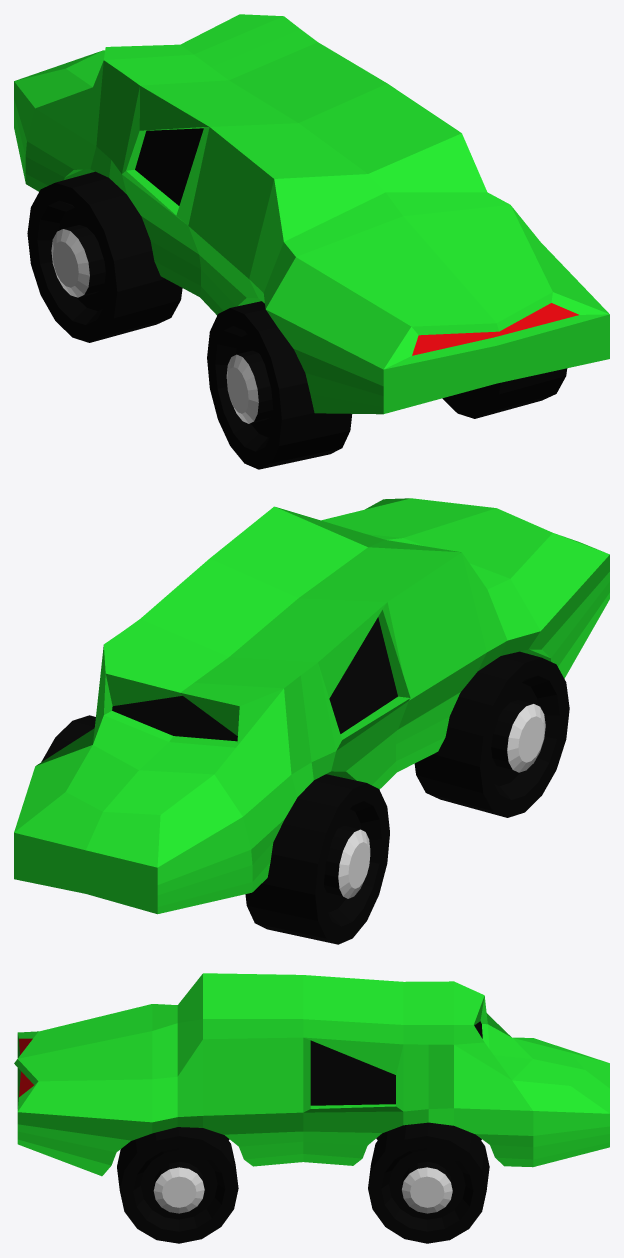
The model's file is Car2.glb.
3 renders of one model, top to bottom at view 1: azimuth 30°, elevation 25°; view 2: azimuth 150°, elevation 25°; view 3: azimuth 270°, elevation 25°, orthographic. The views are drawn at different scales.
Parts seen in each view (by area): view 1: Car, LB, LT, RT; view 2: Car, LT, LB, RB; view 3: Car, RB, RT.
Part boxes in pixels (x1,y1,x2,y2): Car: [14, 14, 609, 414]; LB: [27, 171, 182, 342]; LT: [207, 301, 352, 469]; RT: [442, 368, 567, 418]; Car: [14, 498, 609, 914]; LT: [414, 651, 569, 817]; LB: [245, 774, 389, 944]; RB: [41, 715, 95, 761]; Car: [14, 973, 609, 1176]; RB: [368, 1122, 489, 1243]; RT: [117, 1127, 238, 1243].
Size of the model in its own units: 1.96 by 1.65 by 4.75.
